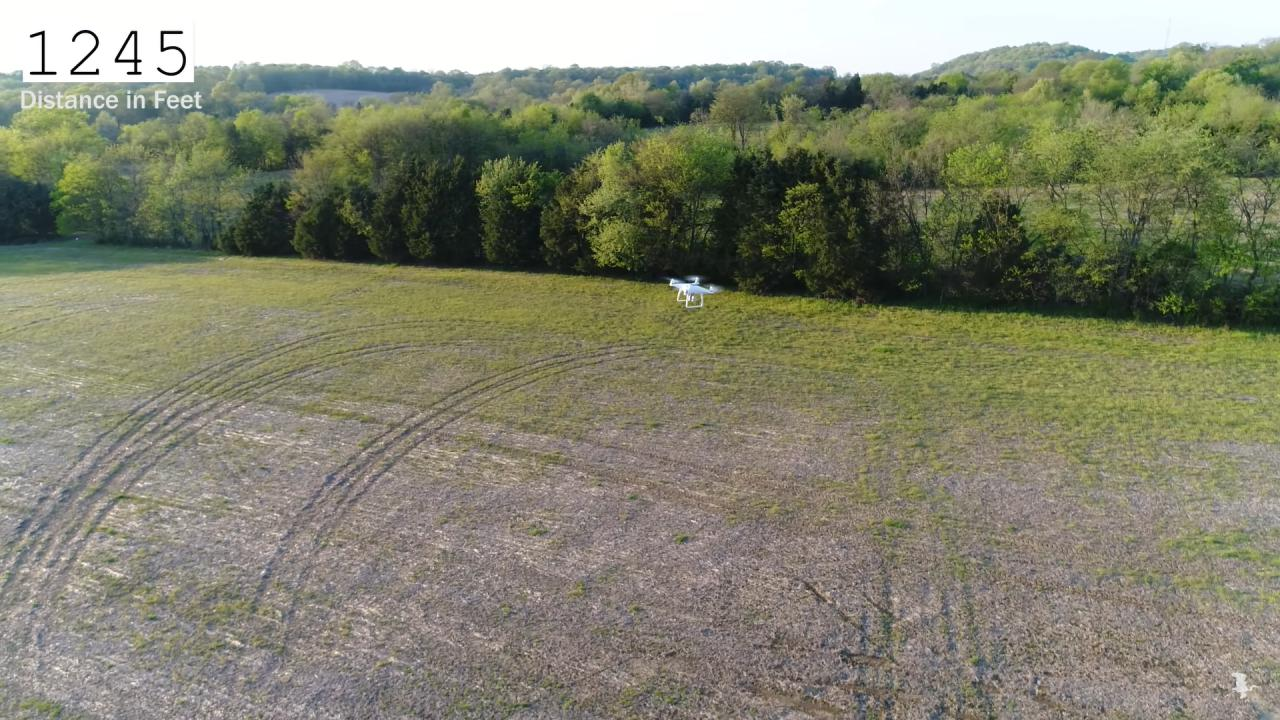Drone: (660, 265, 730, 313)
